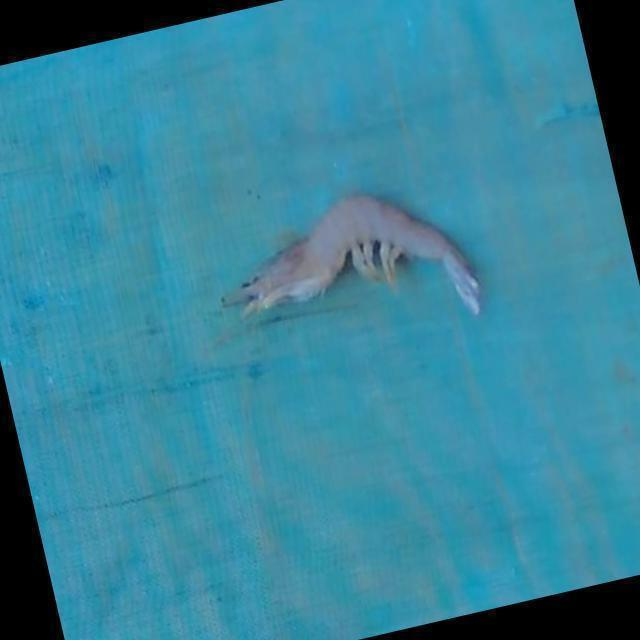shrimp: (240, 195, 480, 314)
